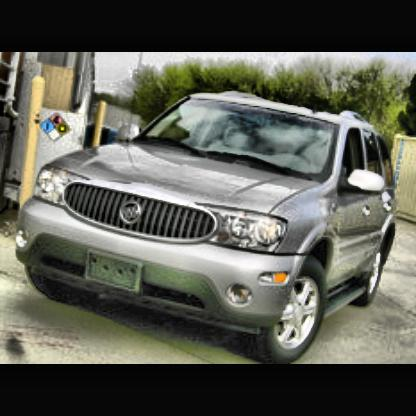Buick Rainier SUV 2007: (10, 84, 408, 364)
